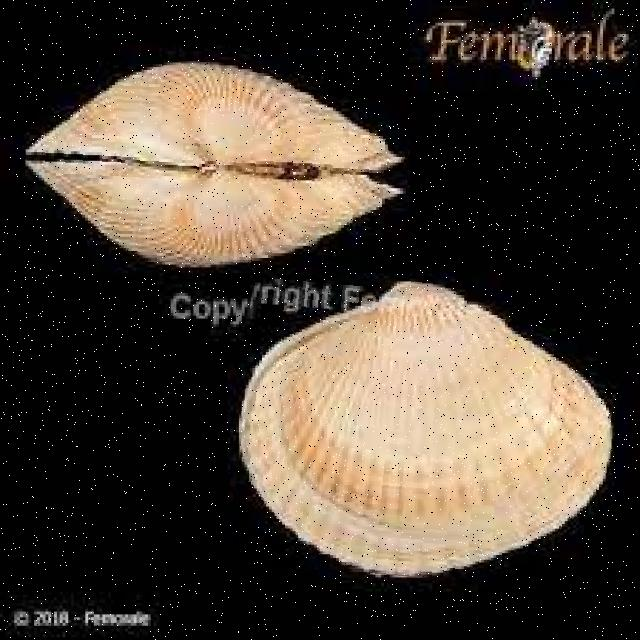Monodacna_colorata: (234, 276, 619, 586), (20, 58, 412, 270)
